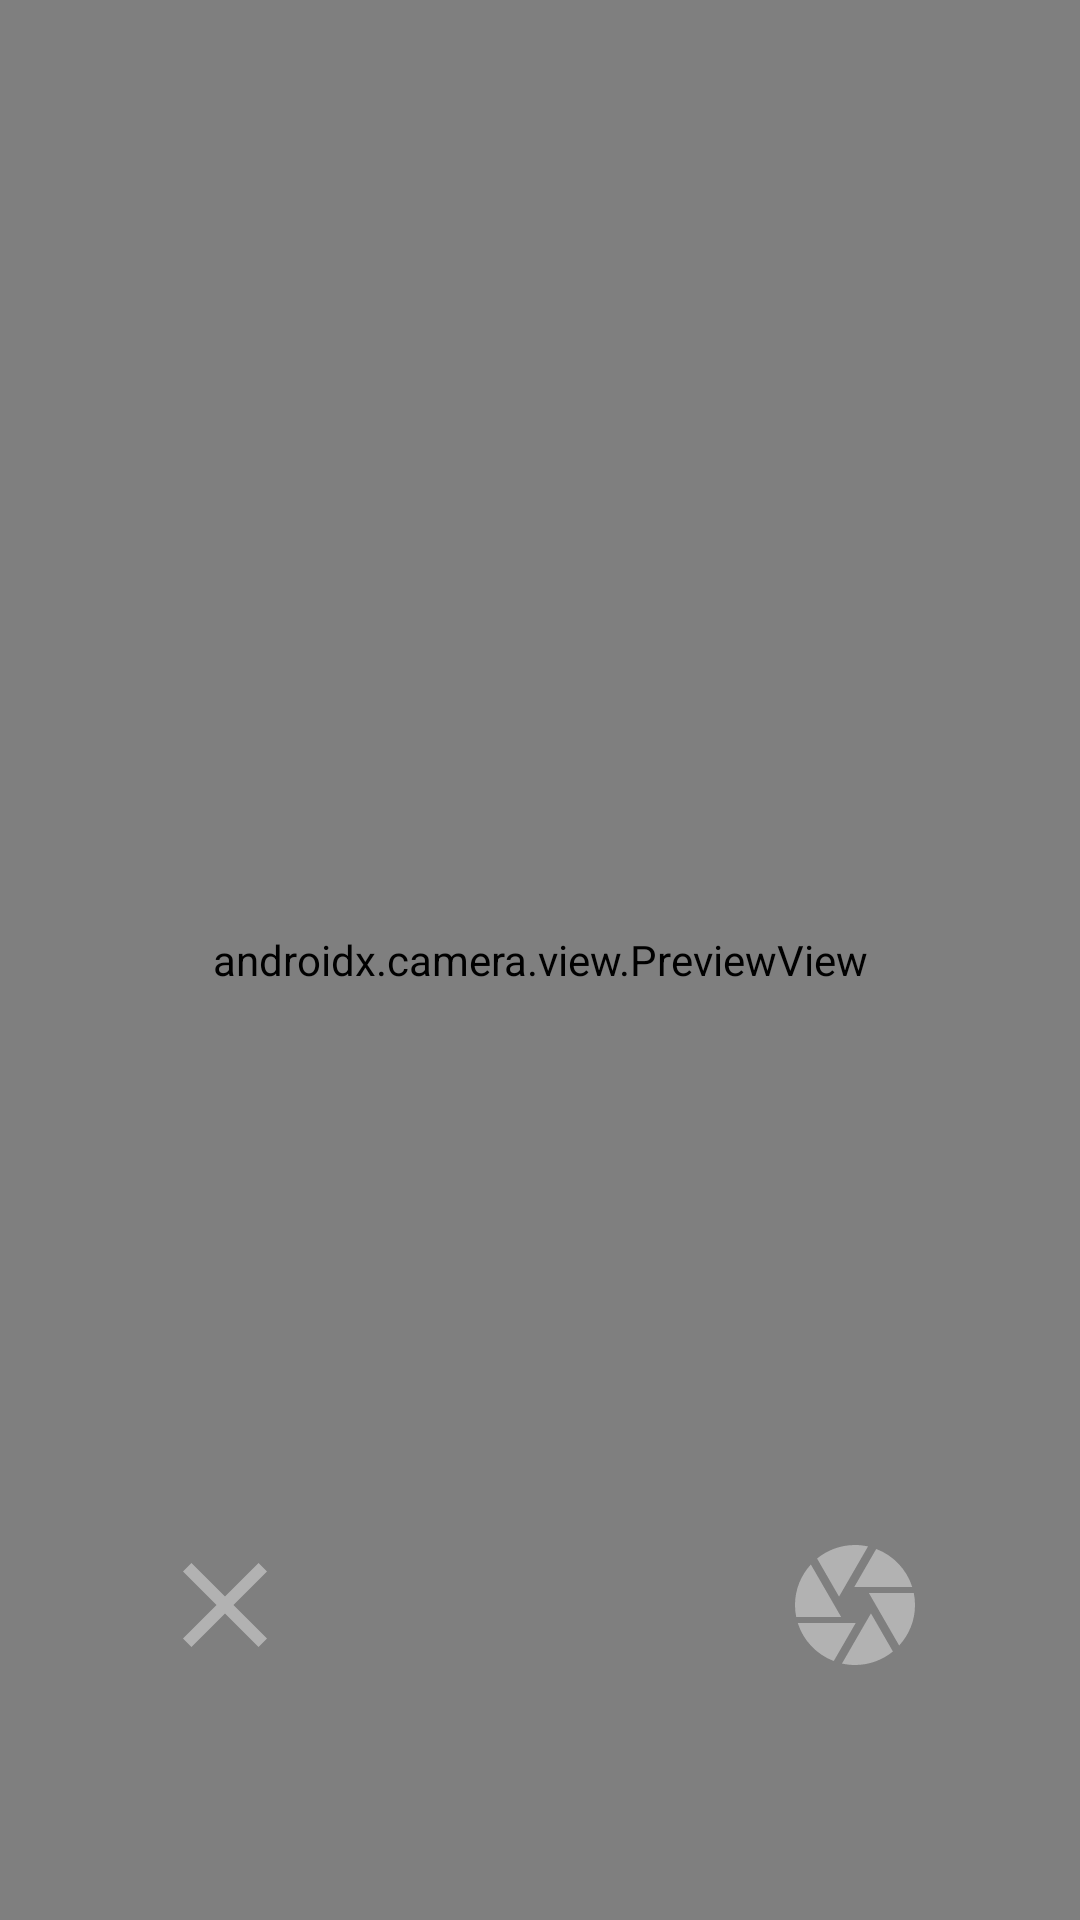

Where icons sit on this 1080w x 1920h app screen, as [x1, y1, x2, y2]:
close: [183, 1563, 267, 1647]
